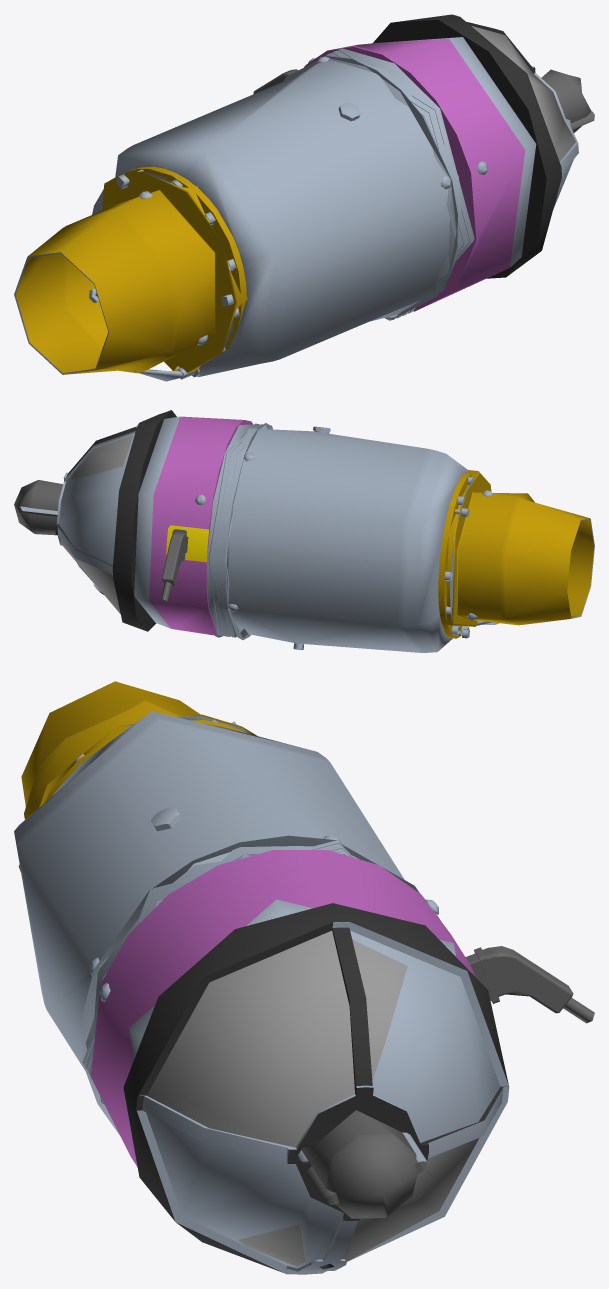
Rendered from sim_sea_2-5_r_elbow_p160_prt.obj.
3 views of the same model, one above another, from view 1: azimuth 30°, elevation 25°; view 2: azimuth 150°, elevation 25°; view 3: azimuth 270°, elevation 25° (orthographic). The views are drawn at different scales.
Visible parts, largest first — view 1: 31, 23, 463, 143, 171, 254, 363, 354, 27, 314, 147, 316 (+20 smaller); view 2: 31, 354, 171, 463, 254, 23, 609, 363, 157, 316, 143, 201 (+20 smaller); view 3: 31, 171, 23, 625, 463, 560, 562, 609, 403, 615, 363, 558 (+26 smaller).
Part boxes in pixels (left/top/right/bottom): 31: left=118, top=60, right=458, bottom=381; 23: left=115, top=70, right=458, bottom=376; 463: left=373, top=14, right=561, bottom=278; 143: left=413, top=135, right=525, bottom=311; 171: left=304, top=38, right=480, bottom=237; 254: left=69, top=174, right=221, bottom=370; 363: left=89, top=48, right=473, bottom=318; 354: left=15, top=197, right=161, bottom=371; 27: left=115, top=149, right=258, bottom=340; 314: left=28, top=171, right=238, bottom=373; 147: left=449, top=39, right=524, bottom=165; 316: left=30, top=224, right=189, bottom=373; 31: left=219, top=428, right=498, bottom=652; 354: left=475, top=493, right=571, bottom=625; 171: left=153, top=416, right=252, bottom=584; 463: left=112, top=410, right=176, bottom=631; 254: left=454, top=473, right=515, bottom=625; 23: left=401, top=525, right=452, bottom=652; 609: left=57, top=492, right=118, bottom=574; 363: left=195, top=423, right=492, bottom=639; 157: left=149, top=495, right=206, bottom=600; 316: left=534, top=513, right=594, bottom=617; 143: left=149, top=585, right=218, bottom=635; 201: left=134, top=416, right=179, bottom=598; 31: left=17, top=711, right=404, bottom=1069; 171: left=109, top=850, right=465, bottom=986; 23: left=14, top=711, right=244, bottom=1009; 625: left=183, top=931, right=460, bottom=1271; 463: left=123, top=903, right=508, bottom=1272; 560: left=147, top=983, right=316, bottom=1112; 562: left=210, top=982, right=354, bottom=1111; 609: left=406, top=977, right=502, bottom=1150; 403: left=308, top=1110, right=416, bottom=1196; 615: left=182, top=1144, right=308, bottom=1216; 363: left=82, top=835, right=438, bottom=1135; 558: left=209, top=930, right=349, bottom=1006.
Size of the model in its own units: 294 by 114 by 166.
